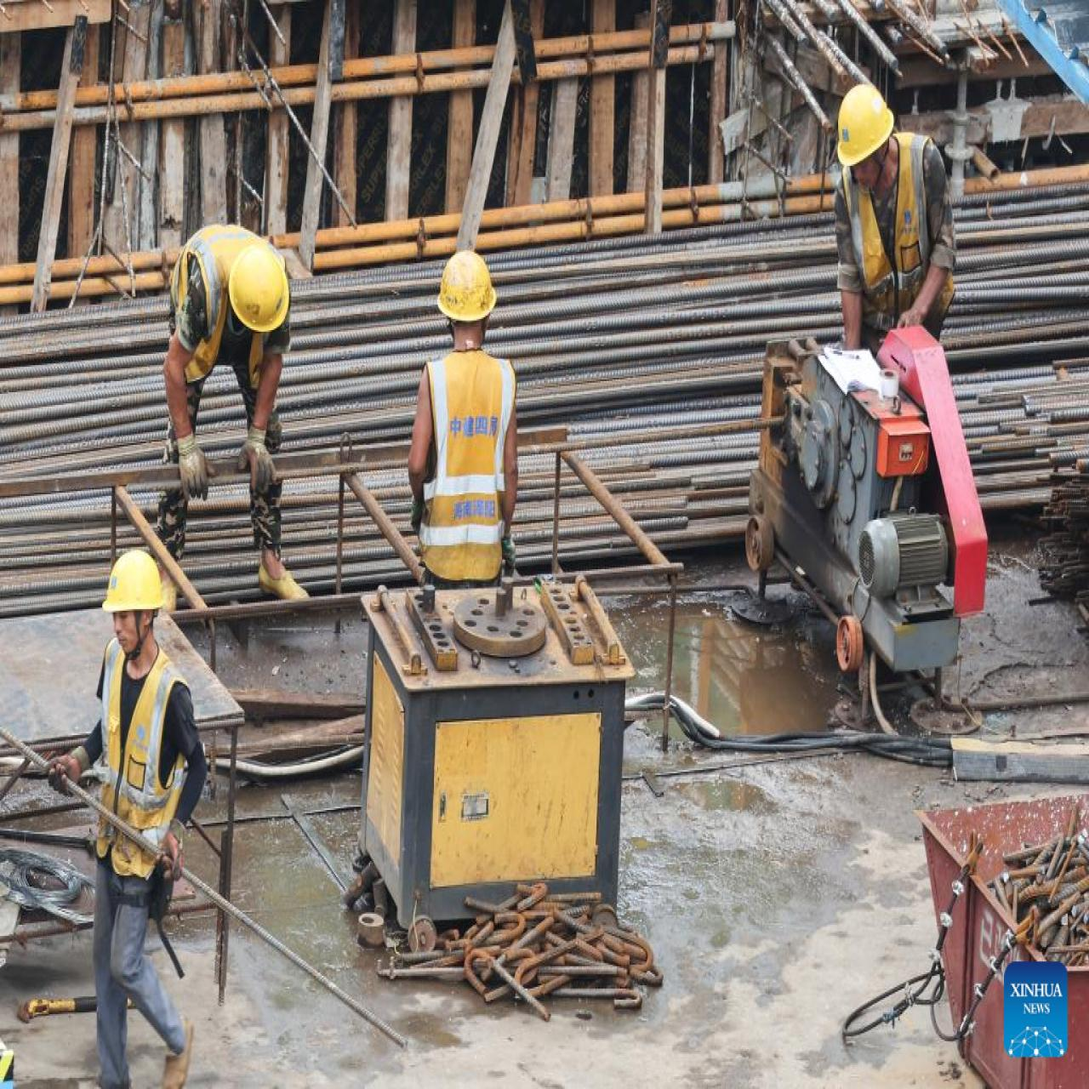Person: (34, 540, 217, 1080), (145, 205, 310, 600), (380, 221, 537, 612), (816, 70, 970, 387)
Safety_Vest: (86, 630, 192, 883), (412, 341, 517, 588), (836, 130, 947, 343), (160, 217, 264, 394)
